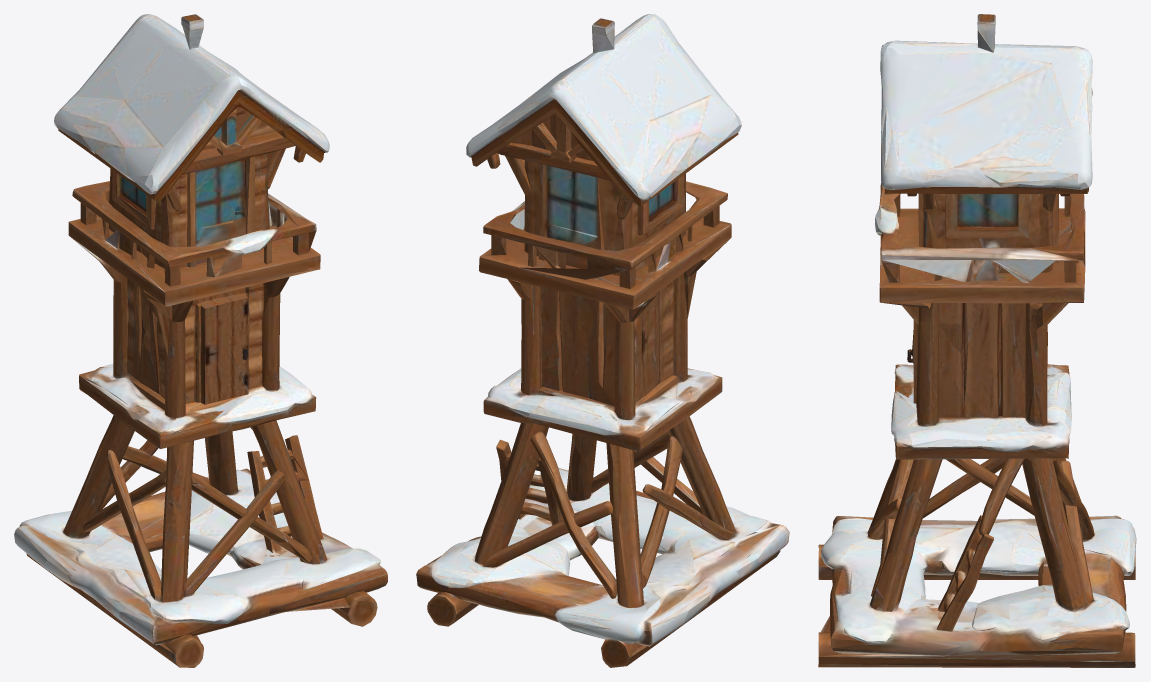
File: watchtower.glb
3 views of the same model, side by side, from view 1: azimuth 30°, elevation 25°; view 2: azimuth 150°, elevation 25°; view 3: azimuth 270°, elevation 25° (orthographic). The views are drawn at different scales.
Size of the model in its own units: 0.8443 by 1.9 by 0.909.
Materials: 1 (1 with a texture image).
